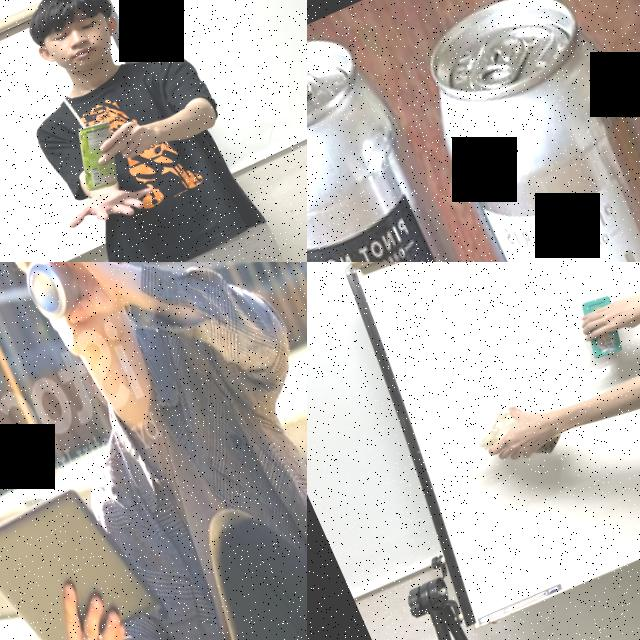can: (307, 14, 576, 262), (397, 0, 640, 262), (62, 115, 134, 197), (19, 262, 91, 326)
cup: (468, 389, 572, 481)
